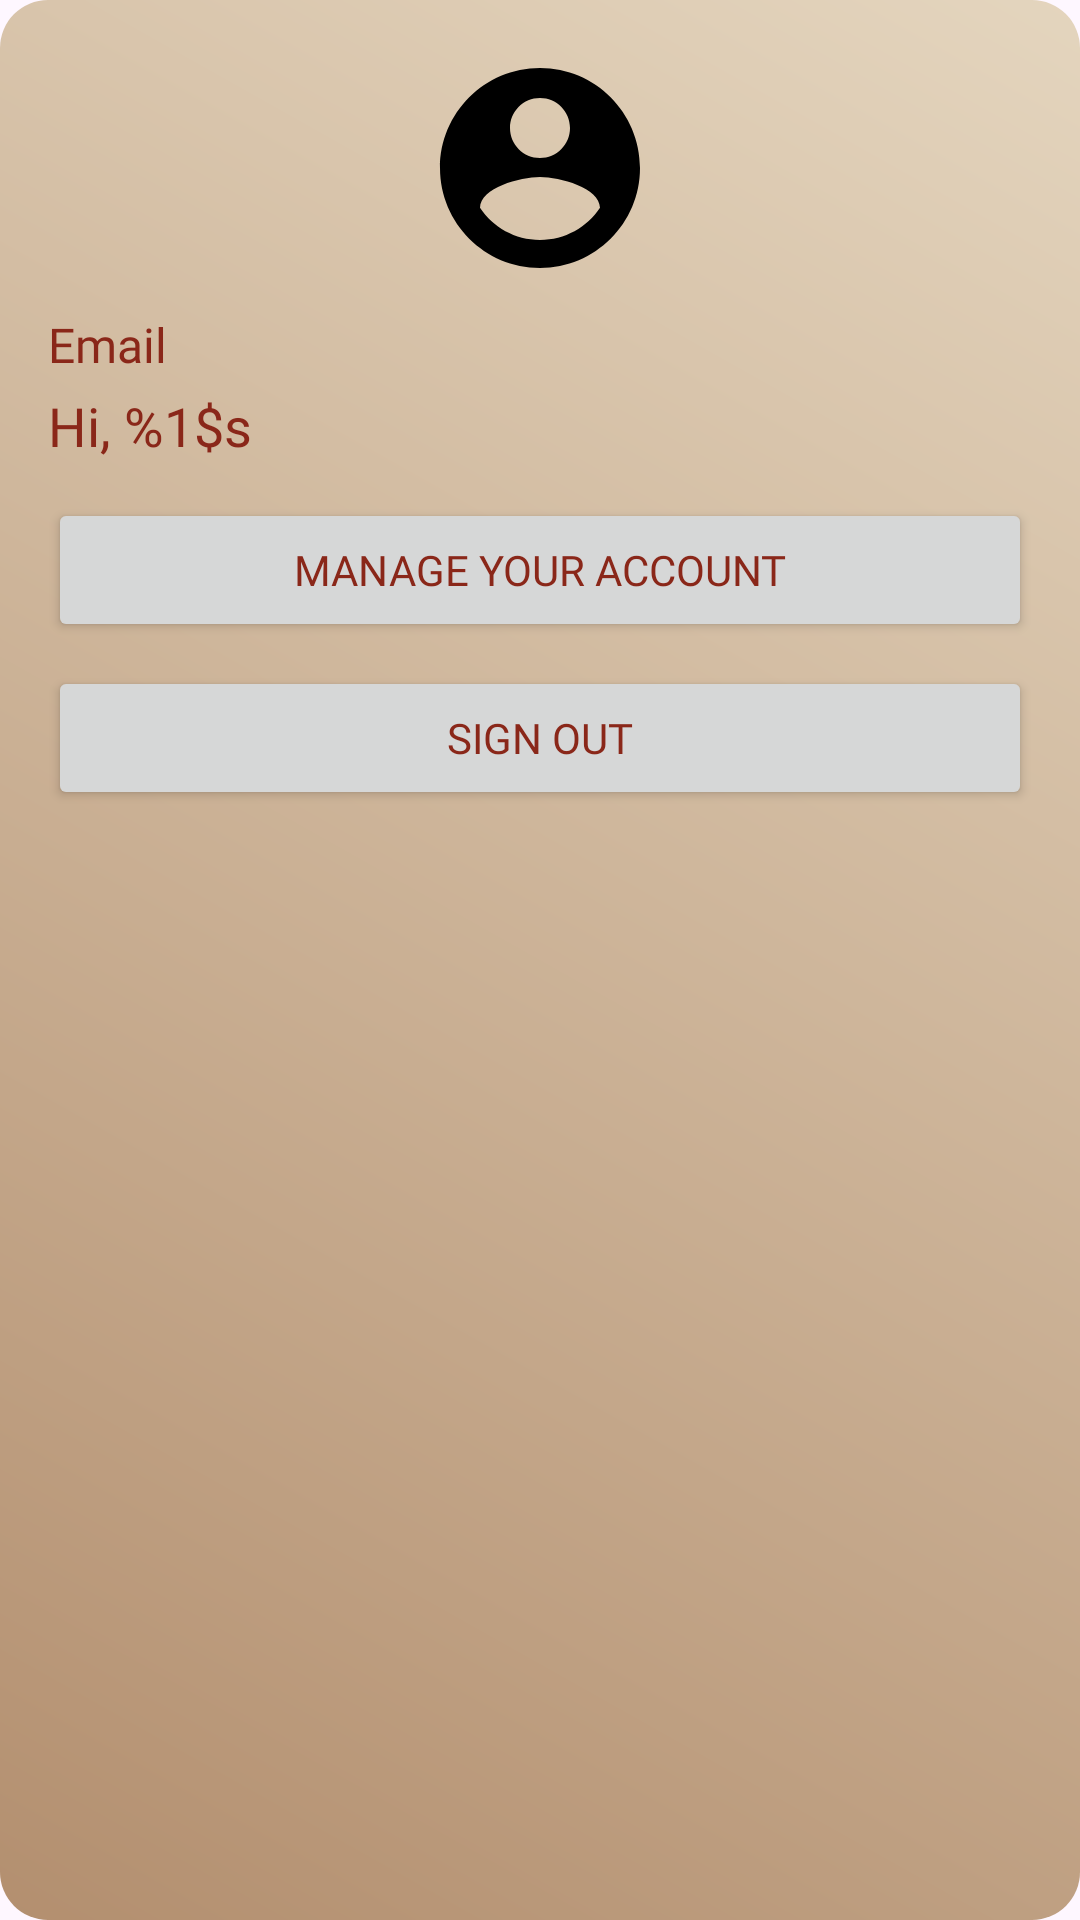

Locate icon controls on the screen. Image size 1080w x 1920h, boxes as (x1, y1, x2, y2).
profile picture: (439, 68, 640, 268)
